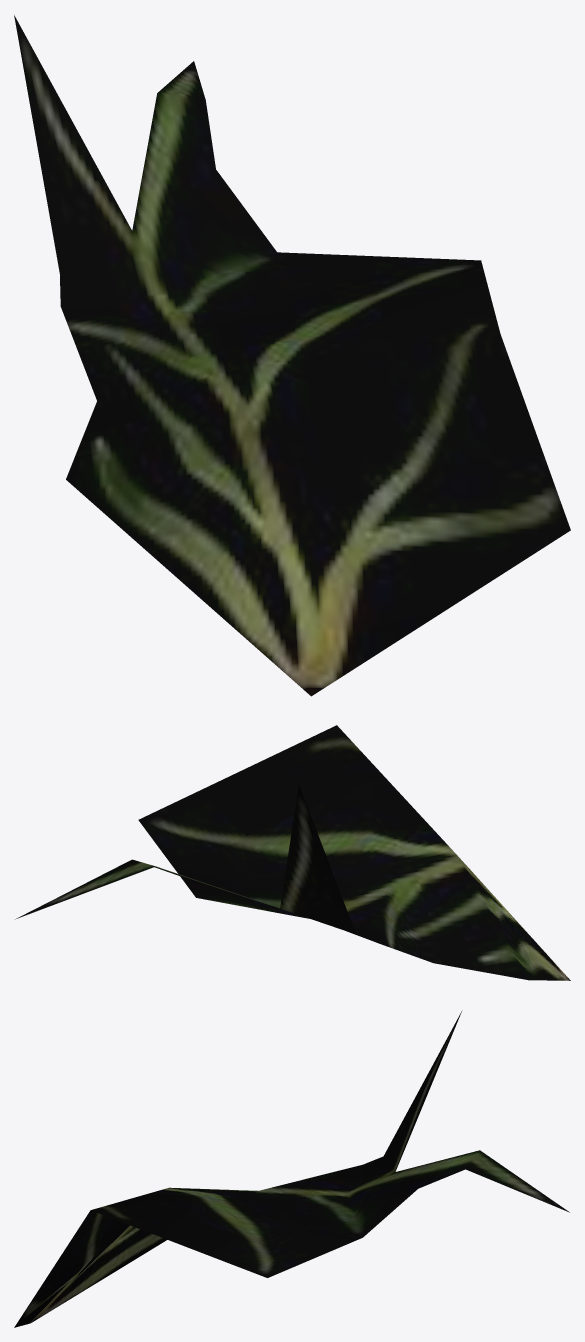
Rendered from grass_bermuda_01_v3.glb.
3 renders of one model, top to bottom at view 1: azimuth 30°, elevation 25°; view 2: azimuth 150°, elevation 25°; view 3: azimuth 270°, elevation 25°, orthographic. The views are drawn at different scales.
Visible parts, largest first — view 1: lod0; view 2: lod0; view 3: lod0.
Boxes of the visible parts, x1,y1,x2,y2 form: lod0: [14, 15, 570, 696]; lod0: [15, 725, 570, 980]; lod0: [14, 1010, 569, 1327].
Size of what is drawn, in the model's own units: 0.0439 by 0.0436 by 0.0693.
Materials: 1 (1 with a texture image).
